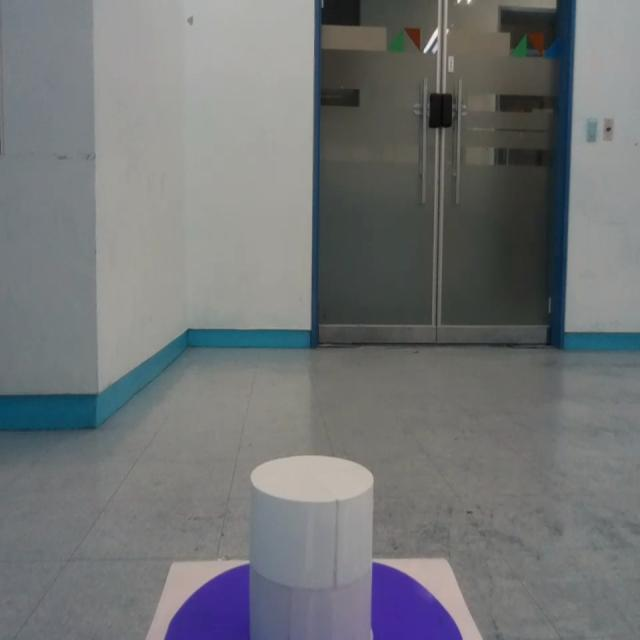cylinder: (248, 455, 375, 639)
